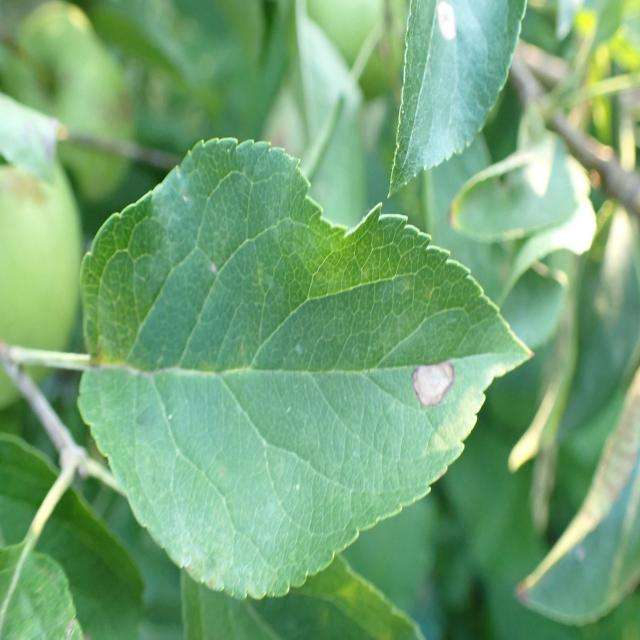Black Rot: (398, 352, 478, 433)
